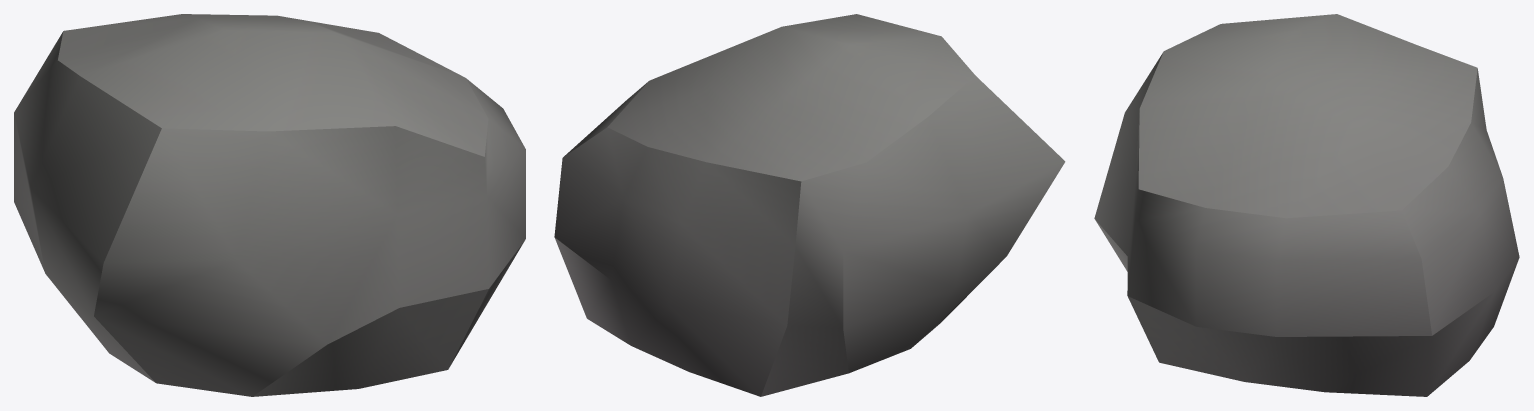
File: Rock_2.fbx
The picture shows the model from 3 angles, left to right: view 1: azimuth 30°, elevation 25°; view 2: azimuth 150°, elevation 25°; view 3: azimuth 270°, elevation 25°; orthographic projection. The views are drawn at different scales.
Parts seen in each view (by area): view 1: Rock_2; view 2: Rock_2; view 3: Rock_2.
Part boxes in pixels (box(x1,y1,x2,y2)): Rock_2: box(14, 14, 525, 396); Rock_2: box(554, 14, 1065, 396); Rock_2: box(1094, 14, 1519, 396).
Bounding box in the file's own units: 1.07 × 0.7131 × 1.02.
